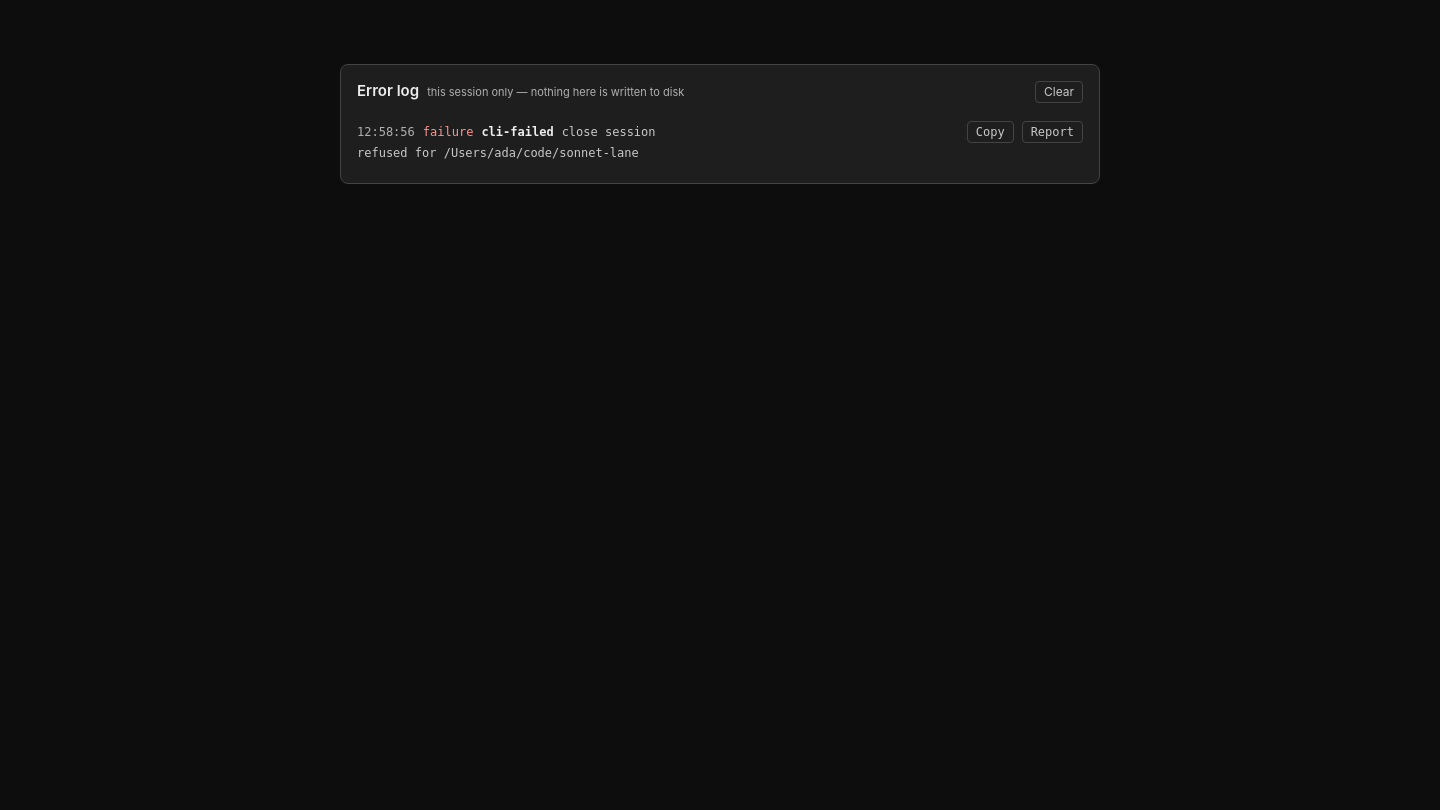
it: ErrorLogPanel › composes a scrubbed report and copies it -- it does not send it
Click the button "Report" at point(1052, 132), box [1022, 121, 1083, 143]
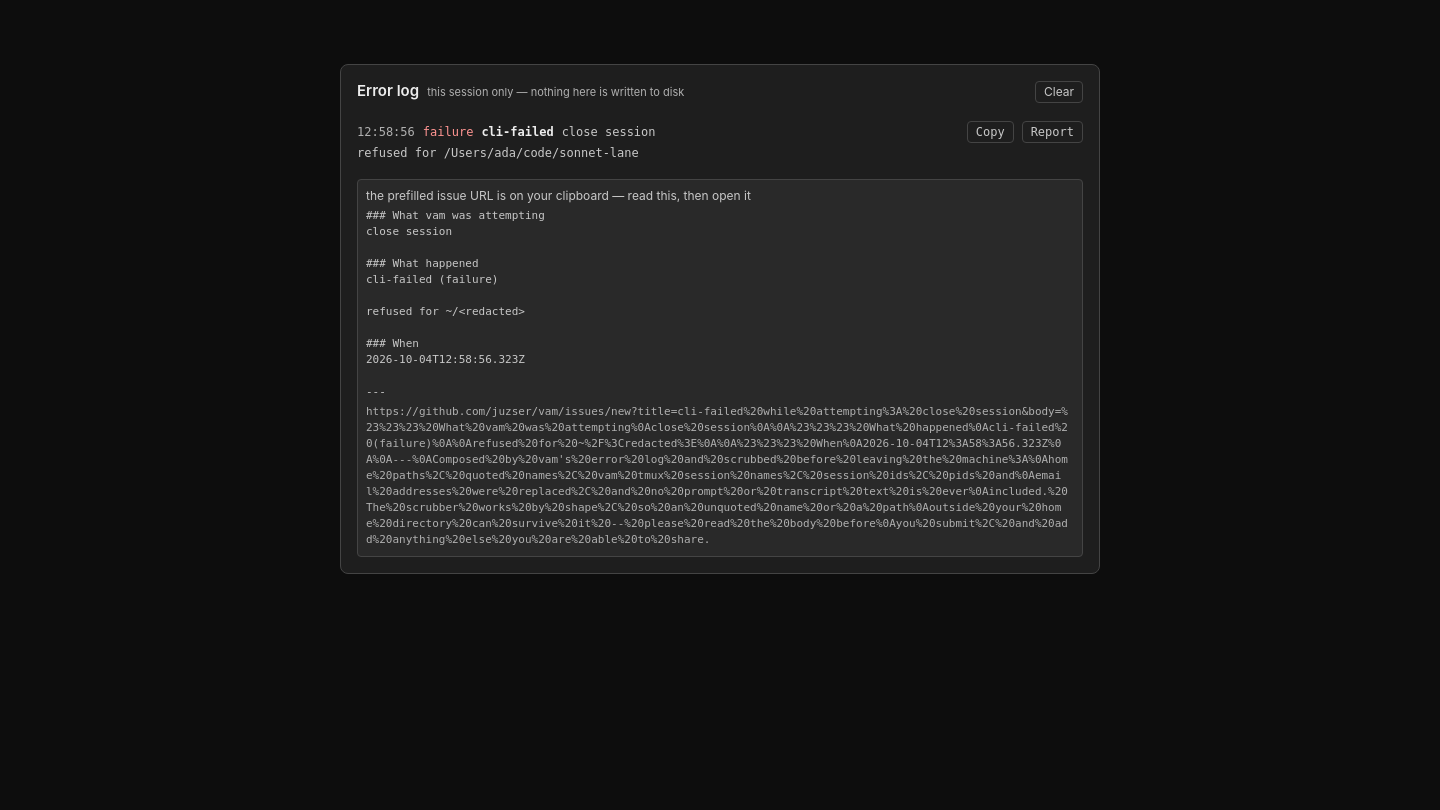
Expected: the element with test id "report-preview" does not show "/Users/ada"
Expected: the text with test id "report-preview" shows "cli-failed", [366, 209, 850, 494]
